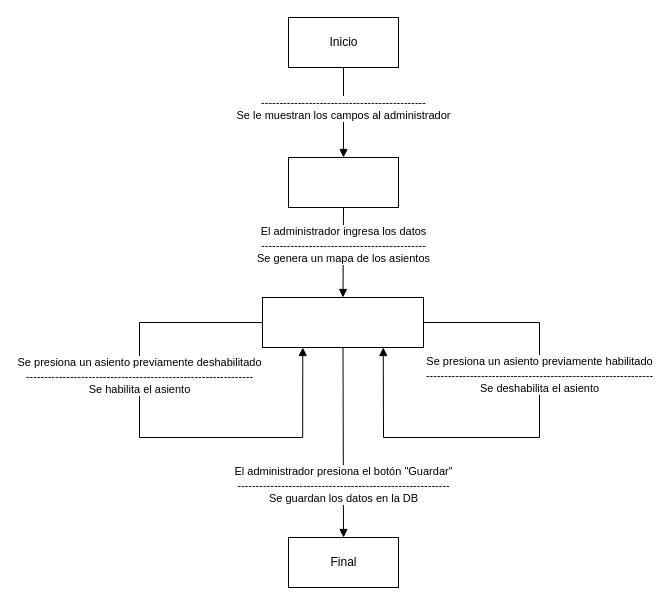
Image size: 670x605. Some labels were removed from this diagram. The centre of each missing label's shape, as x and y in pixels:
Esperando a que se habiliten/deshabiliten asientos: point (343, 322)
Esperando datos: point (343, 182)
